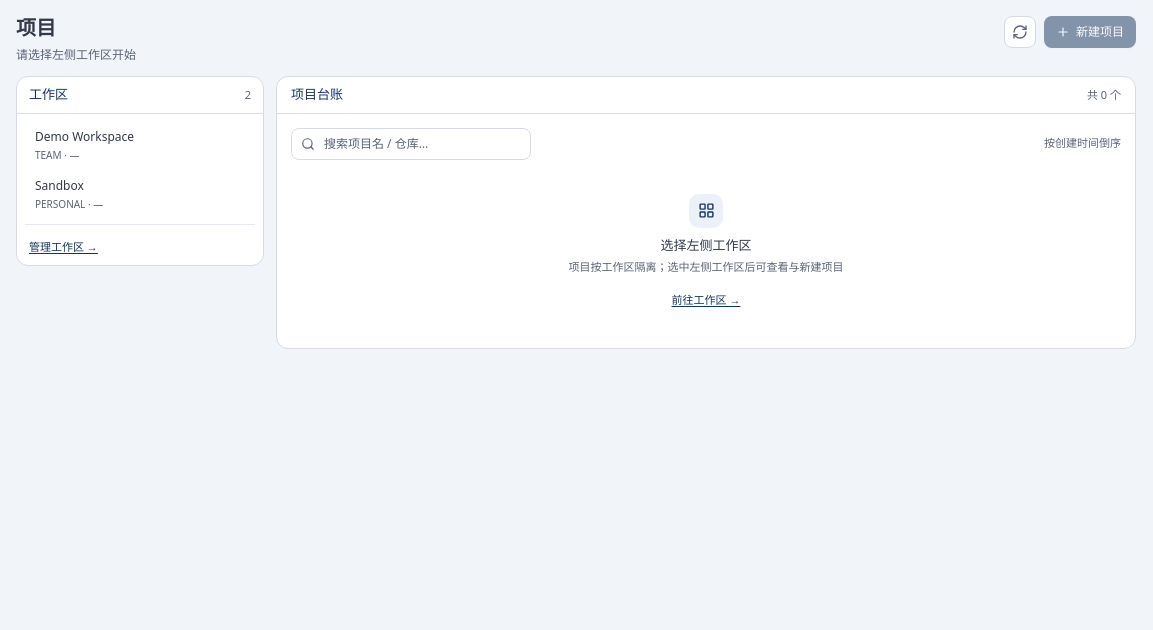
Scenario: Projects › 切换工作区清空选中项目与搜索关键词
Click the button "Demo Workspace TEAM · —" at [140, 145], box [25,122,255,168]
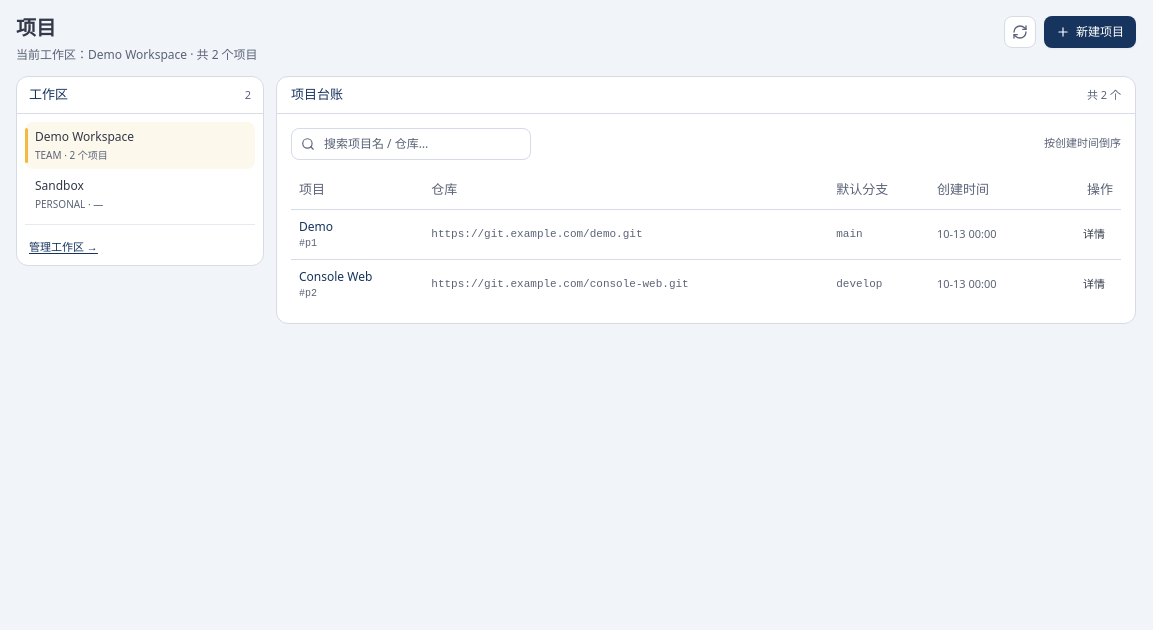
Click the button with test id "project-select-p1" at [1094, 234], box [1075,222,1113,246]
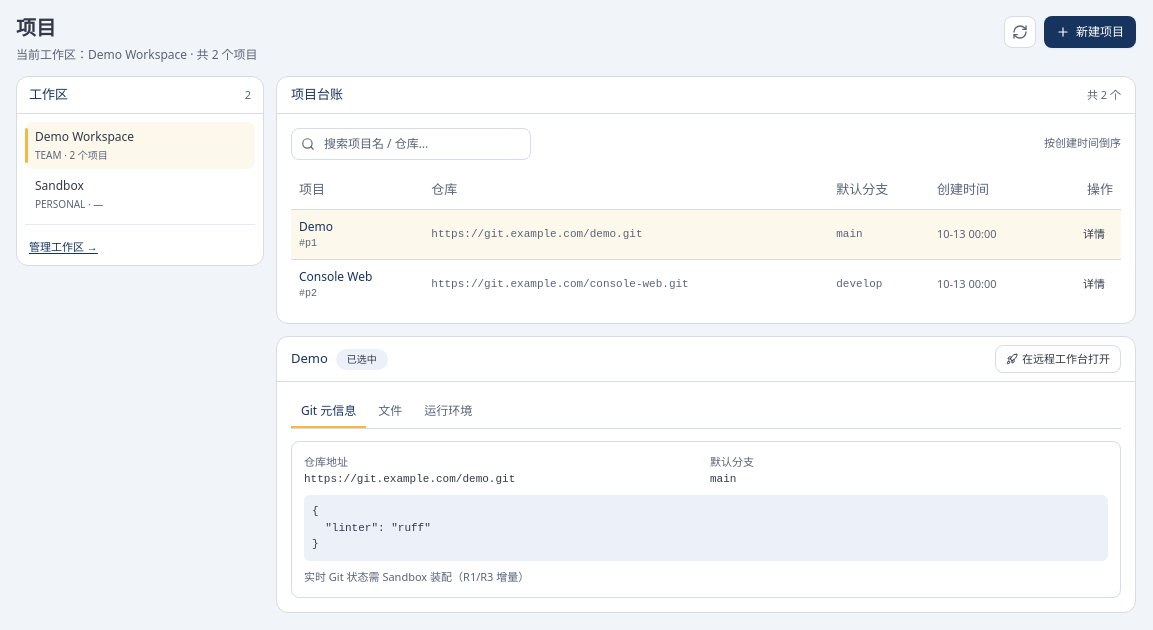
Expected: the element with test id "project-detail" is shown, [276,336,1136,613]
Type "demo" into the field with test id "projects-search" at [411, 144], box [291,128,531,160]
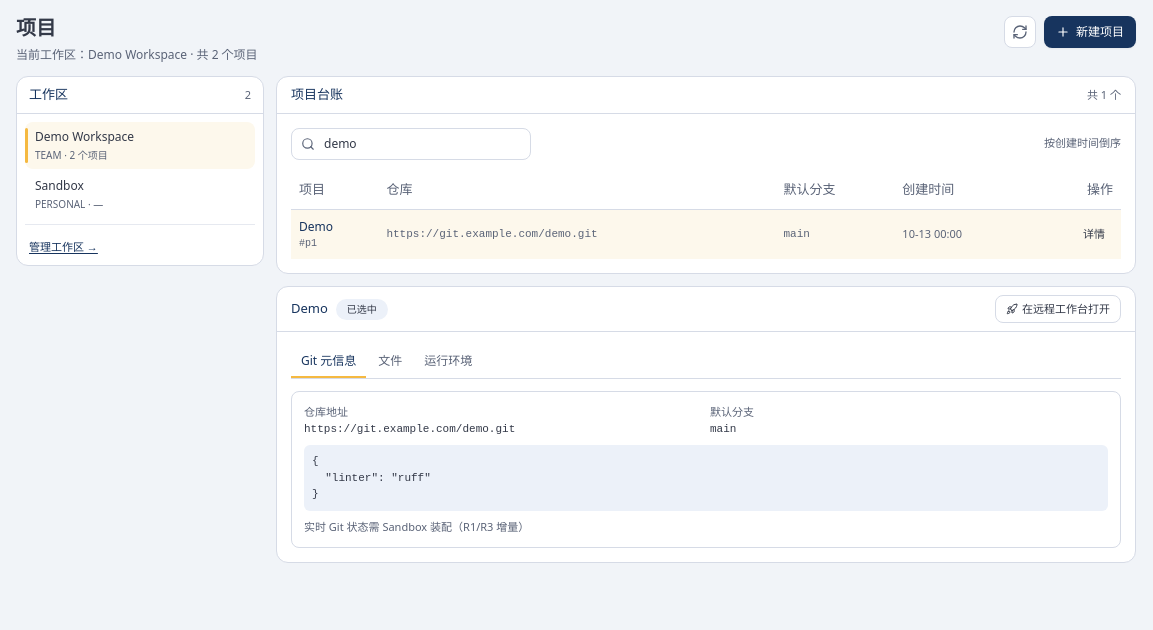
Click the button "Sandbox PERSONAL · —" at [140, 194], box [25,170,255,218]
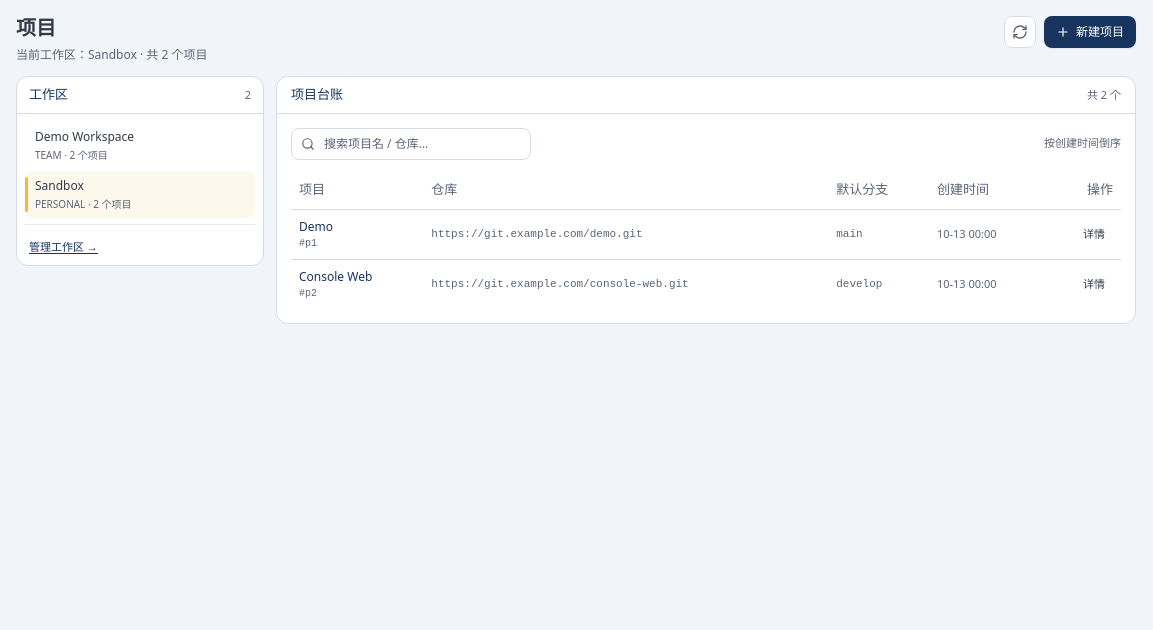
Expected: the element with test id "project-detail" is gone
Expected: the field with test id "projects-search" is empty, [291,128,531,160]
